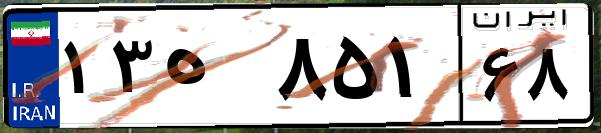1: (385, 28, 445, 110), (57, 26, 110, 100)
3: (110, 28, 158, 98)
5: (330, 28, 385, 110)
6: (475, 38, 525, 113)
8: (270, 28, 330, 110), (525, 38, 570, 115)
ه: (158, 20, 270, 120)
